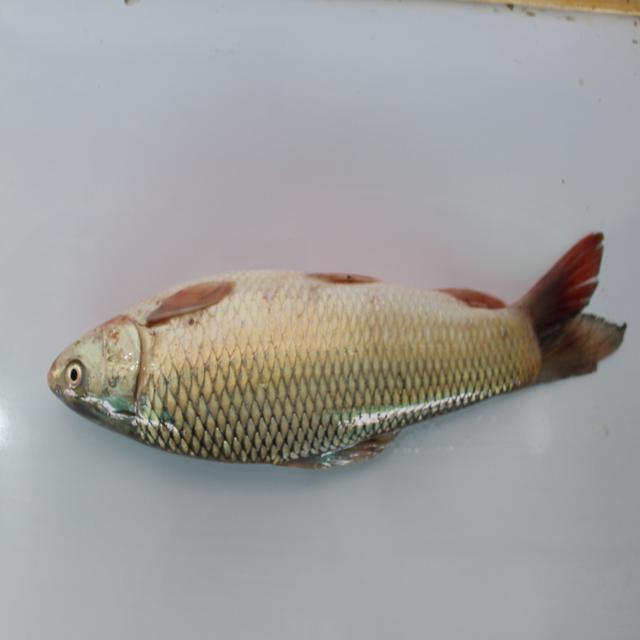Mori: (50, 212, 640, 484)
